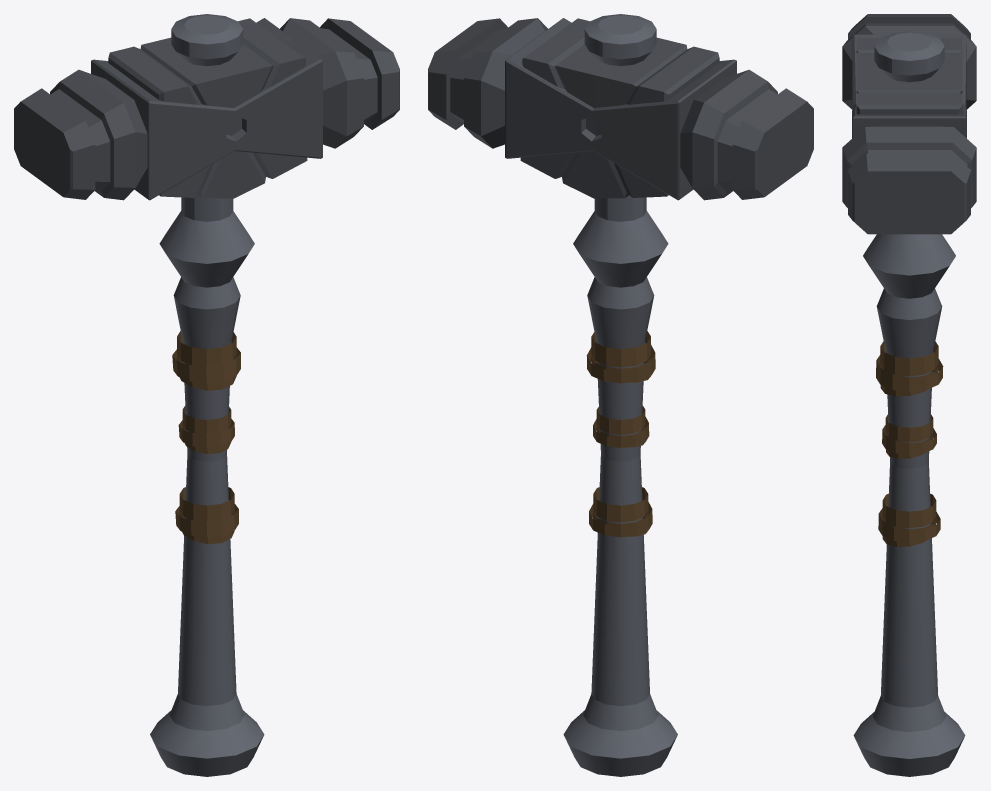
Rendered from HAMMER.fbx.
3 renders of one model, left to right at view 1: azimuth 30°, elevation 25°; view 2: azimuth 150°, elevation 25°; view 3: azimuth 270°, elevation 25°, orthographic. The views are drawn at different scales.
Visible parts, largest first — view 1: Cube.002, Cylinder.001, Cylinder.002; view 2: Cube.002, Cylinder.001, Cylinder.002; view 3: Cylinder.001, Cube.002, Cylinder.002.
Boxes of the visible parts, <box> form: Cube.002: <box>14,18,399,200</box>; Cylinder.001: <box>150,14,264,776</box>; Cylinder.002: <box>172,331,240,544</box>; Cube.002: <box>428,18,813,200</box>; Cylinder.001: <box>563,14,677,776</box>; Cylinder.002: <box>586,331,655,537</box>; Cylinder.001: <box>853,31,965,776</box>; Cube.002: <box>842,14,976,234</box>; Cylinder.002: <box>876,341,943,546</box>.
Size of the model in its own units: 602 by 1278 by 217.
